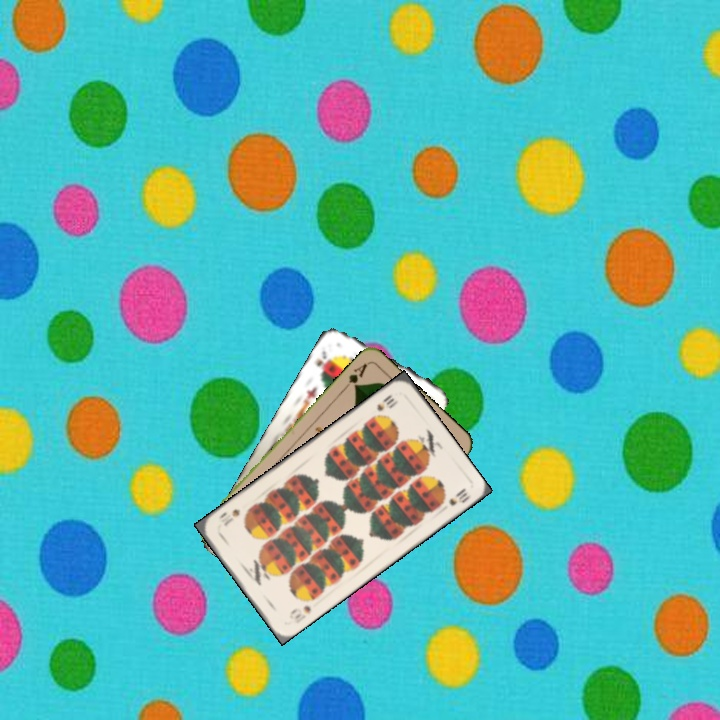GA: (339, 359, 370, 393)
S10: (285, 601, 313, 626), (373, 391, 401, 414)
SK: (310, 346, 333, 379)
